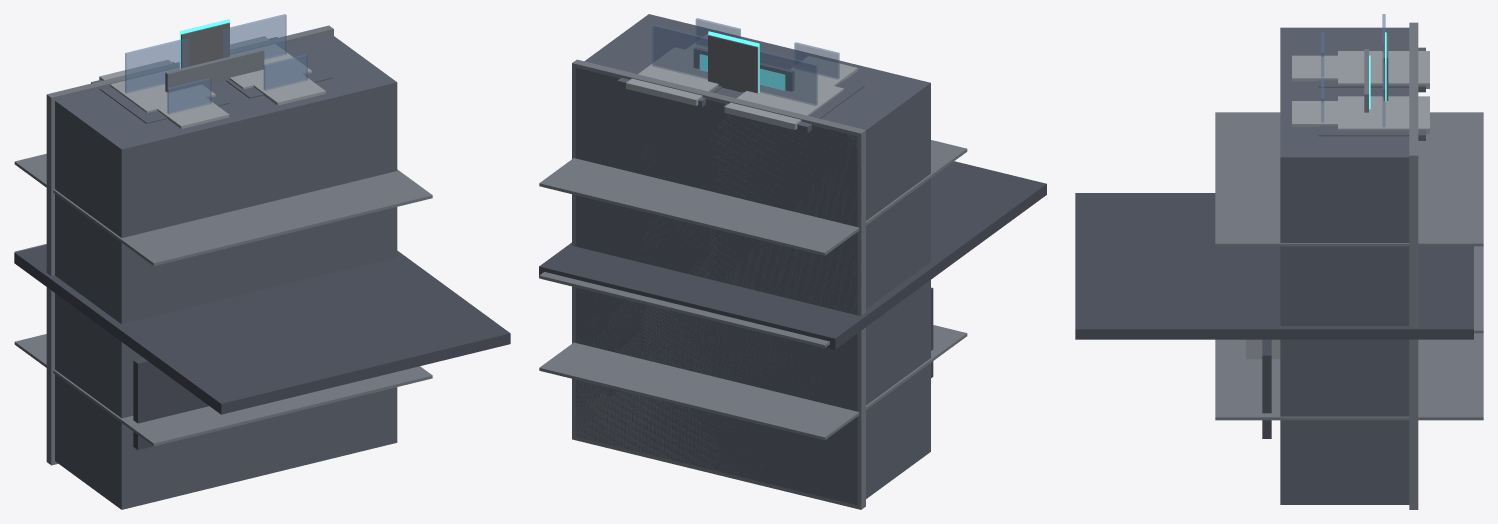
File: small_house.glb
3 views of the same model, side by side, from view 1: azimuth 30°, elevation 25°; view 2: azimuth 150°, elevation 25°; view 3: azimuth 270°, elevation 25° (orthographic). The views are drawn at different scales.
Visible parts, largest first — view 1: Body_Wall, Roof_Slab, Canopy_Trim, Win_GF_L_Glass, Win_GF_L_Frame, Door_Panel; view 2: Body_Wall, Canopy_Trim, Roof_Slab, Win_GF_L_Frame, Win_GF_L_Glass, Door_Panel, Canopy_Light; view 3: Body_Wall, Roof_Slab, Canopy_Trim, Win_GF_L_Frame, Win_GF_L_Glass.
Part boxes in pixels (bbox=[...]): Body_Wall: bbox=[55, 33, 397, 509]; Roof_Slab: bbox=[14, 244, 510, 449]; Canopy_Trim: bbox=[14, 25, 432, 465]; Win_GF_L_Glass: bbox=[125, 14, 307, 114]; Win_GF_L_Frame: bbox=[99, 36, 325, 128]; Door_Panel: bbox=[181, 22, 229, 68]; Body_Wall: bbox=[575, 14, 930, 505]; Canopy_Trim: bbox=[539, 47, 967, 509]; Roof_Slab: bbox=[539, 161, 1046, 377]; Win_GF_L_Frame: bbox=[626, 33, 857, 129]; Win_GF_L_Glass: bbox=[652, 18, 839, 105]; Door_Panel: bbox=[708, 35, 759, 93]; Canopy_Light: bbox=[700, 31, 784, 92]; Body_Wall: bbox=[1280, 27, 1425, 504]; Roof_Slab: bbox=[1075, 193, 1473, 438]; Canopy_Trim: bbox=[1215, 22, 1483, 509]; Win_GF_L_Frame: bbox=[1246, 51, 1429, 359]; Win_GF_L_Glass: bbox=[1321, 14, 1385, 126].
Bounding box in the file's own units: 8.4 × 11.5 × 10.65.
